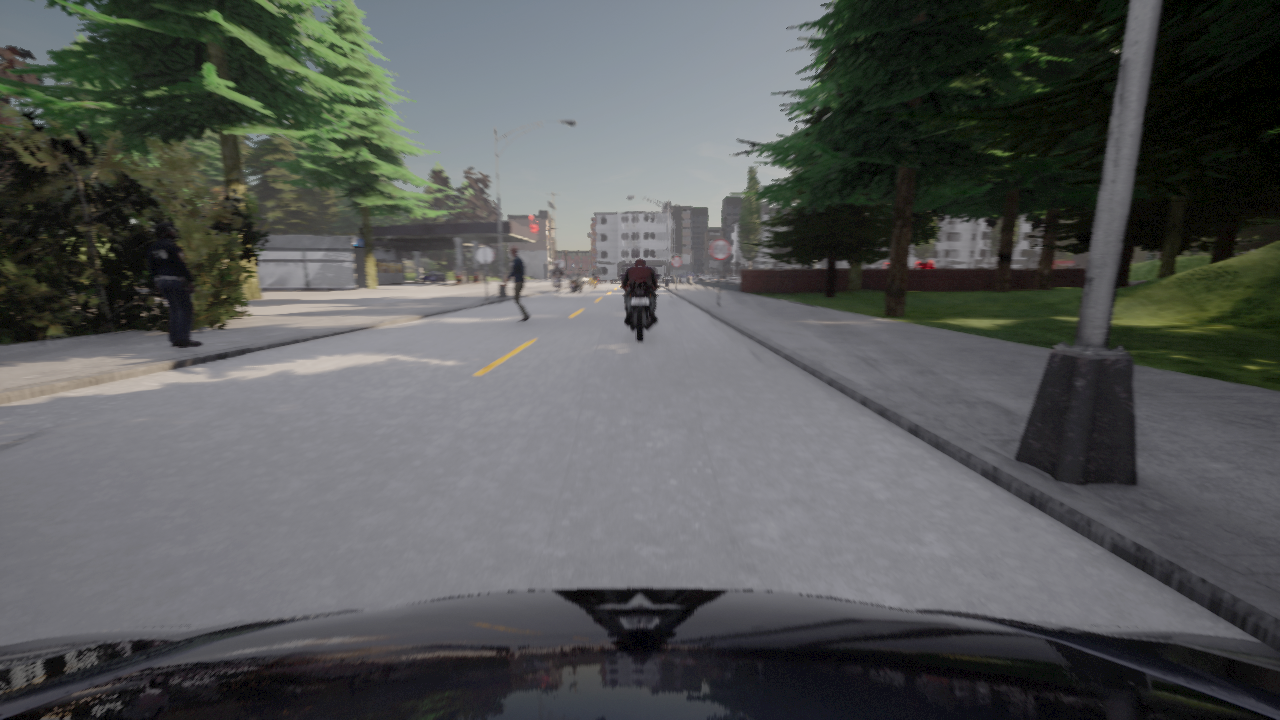cyclist: (0, 588, 1279, 719), (619, 274, 660, 341), (566, 274, 584, 293), (422, 271, 446, 283), (586, 273, 595, 288), (555, 276, 559, 297), (692, 273, 704, 280), (677, 272, 694, 276), (595, 274, 599, 286), (727, 278, 734, 281)
pedestrian: (148, 223, 201, 346), (502, 246, 530, 321)
